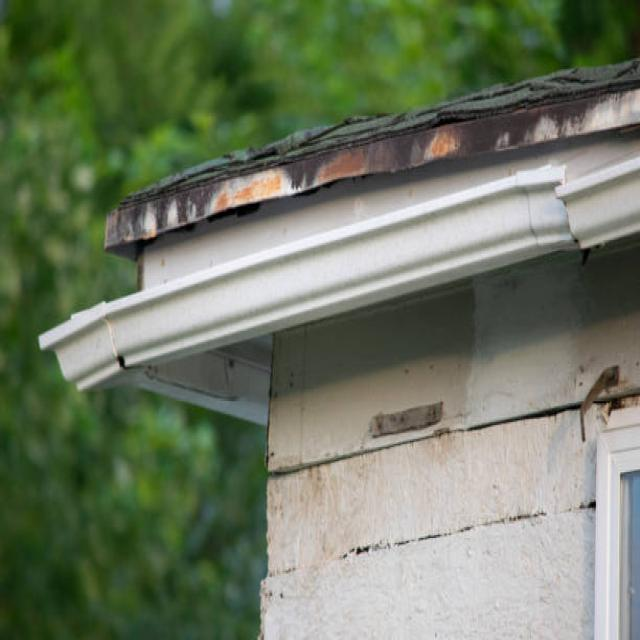House: (40, 1, 640, 640)
